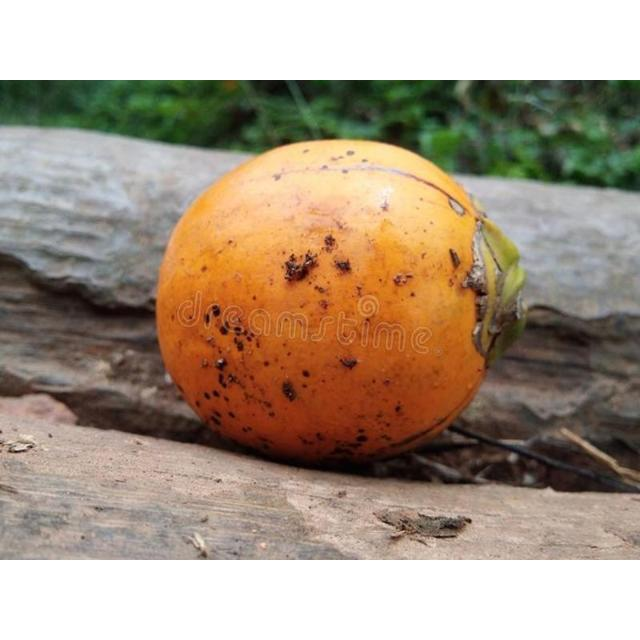good: (154, 139, 526, 470)
